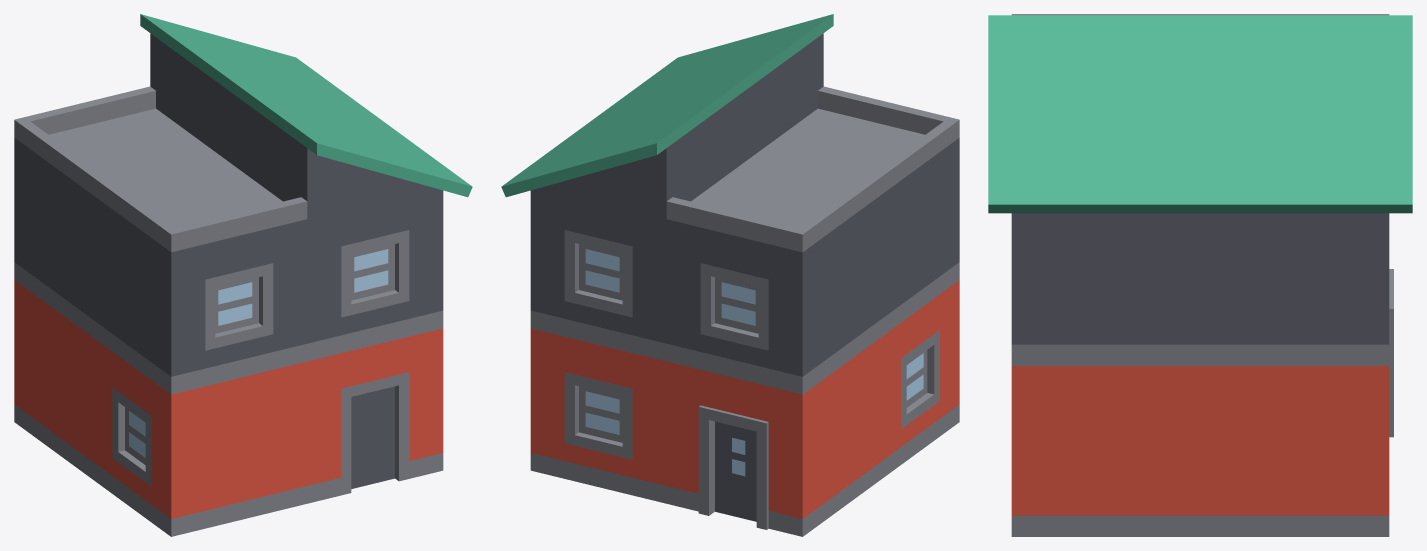
Rendered from house_type21.fbx.
The picture shows the model from 3 angles, left to right: view 1: azimuth 30°, elevation 25°; view 2: azimuth 150°, elevation 25°; view 3: azimuth 270°, elevation 25°; orthographic projection. The views are drawn at different scales.
Visible parts, largest first — view 1: house_type21; view 2: house_type21; view 3: house_type21.
Part boxes in pixels (x1,y1,x2,y2): house_type21: (14, 14, 472, 536); house_type21: (501, 14, 959, 536); house_type21: (988, 14, 1412, 536).
Bounding box in the file's own units: 8.58 × 10.34 × 9.
